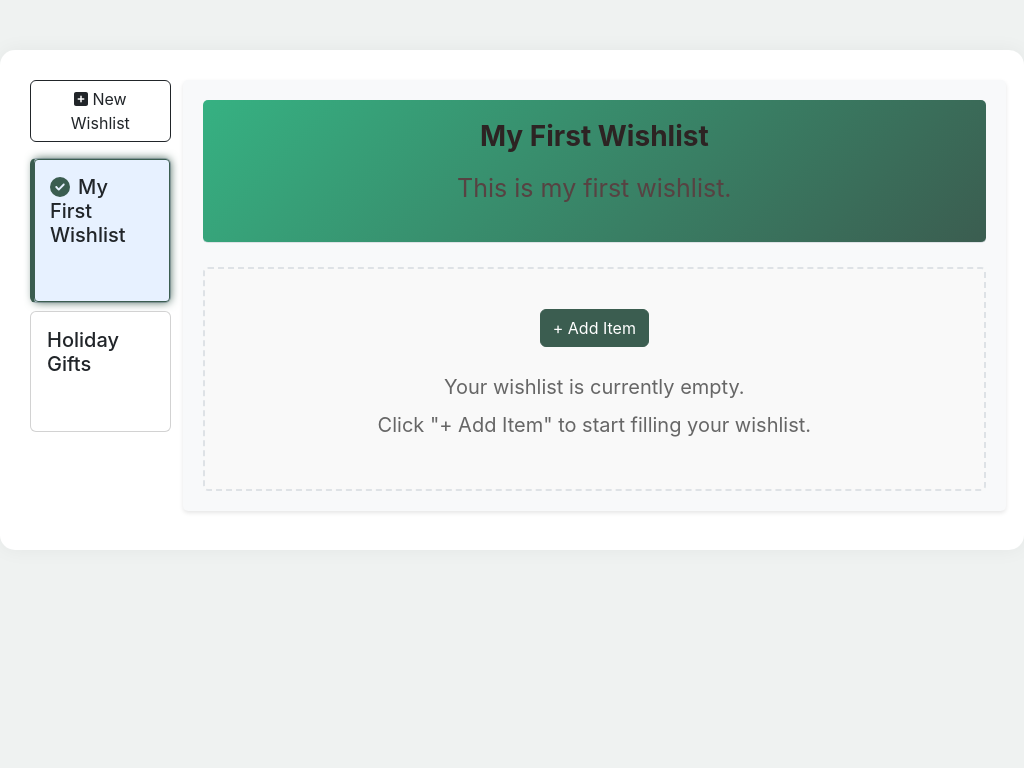
Test: WishlistPage Component Tests › creates a new wishlist
The image size is (1024, 768).
// Interact with UI to create a new wishlist
Click the button "New Wishlist" at (100, 111), box [30,80,171,142]
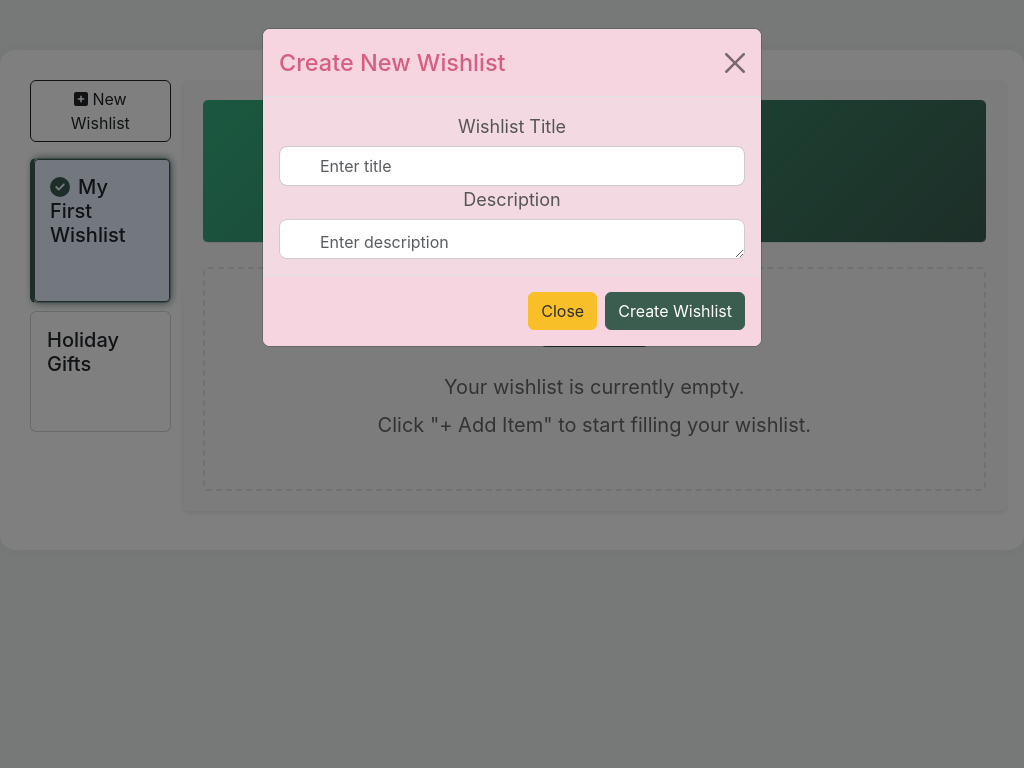
Type "Birthday Gifts" into the field with placeholder "Enter title" at (512, 166), box [279,146,745,186]
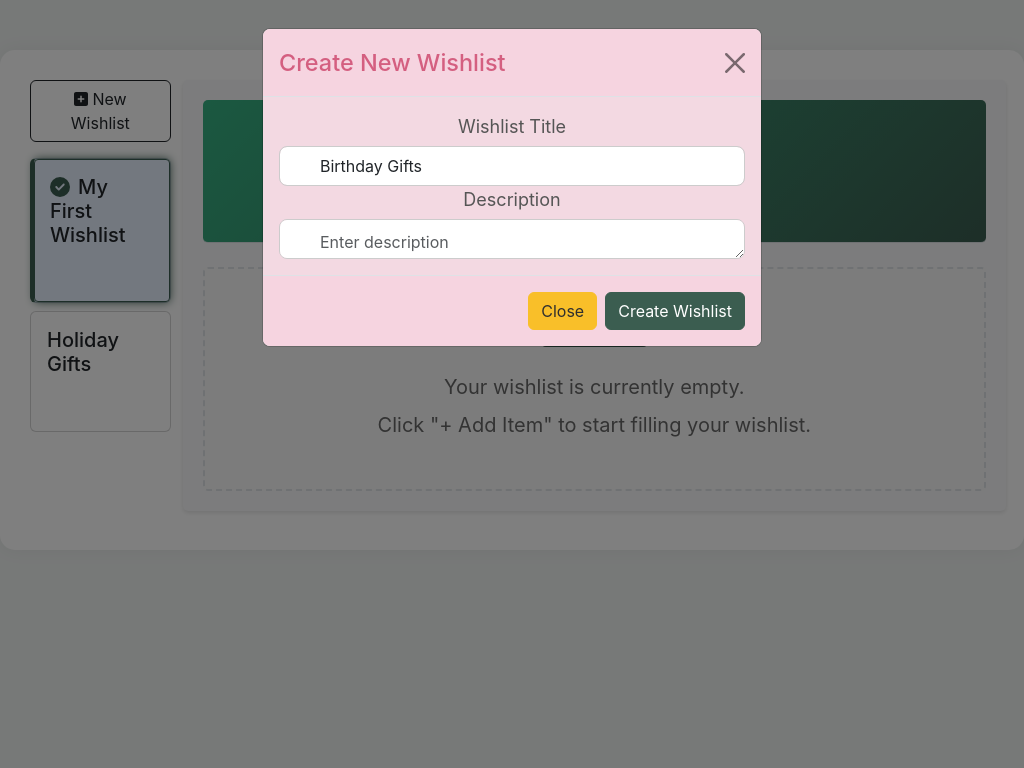
Type "Wishlist for birthday gifts." into the text box with placeholder "Enter description" at (512, 239), box [279,219,745,259]
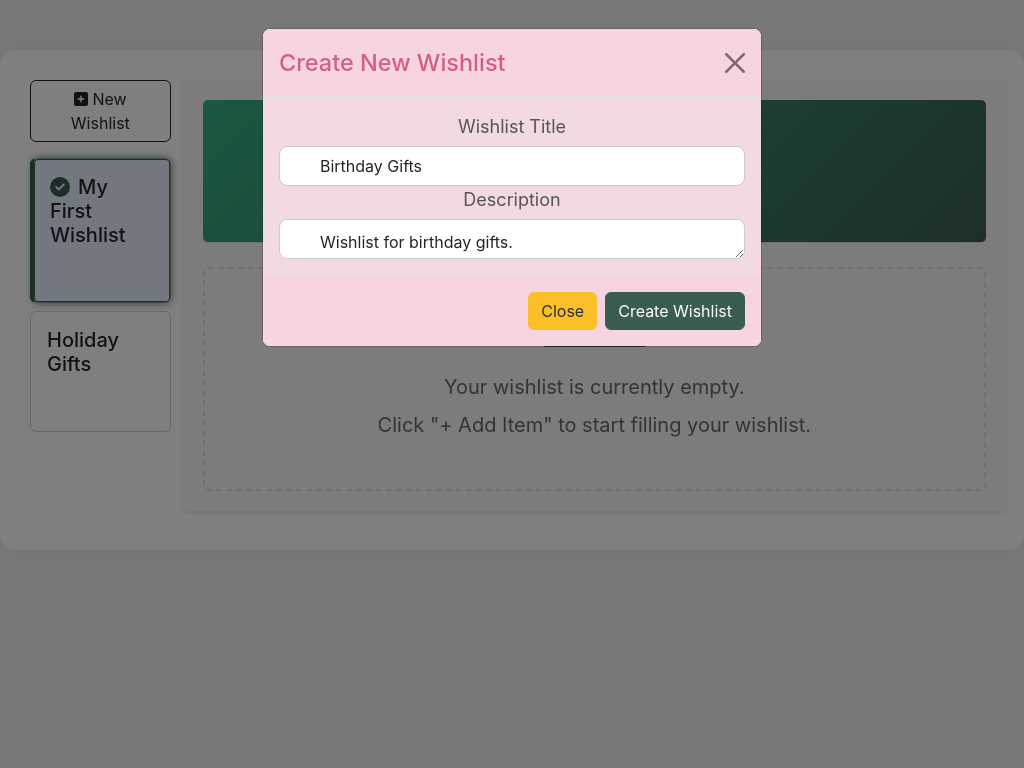
Click the button "Create Wishlist" at (675, 311), box [605,292,745,330]
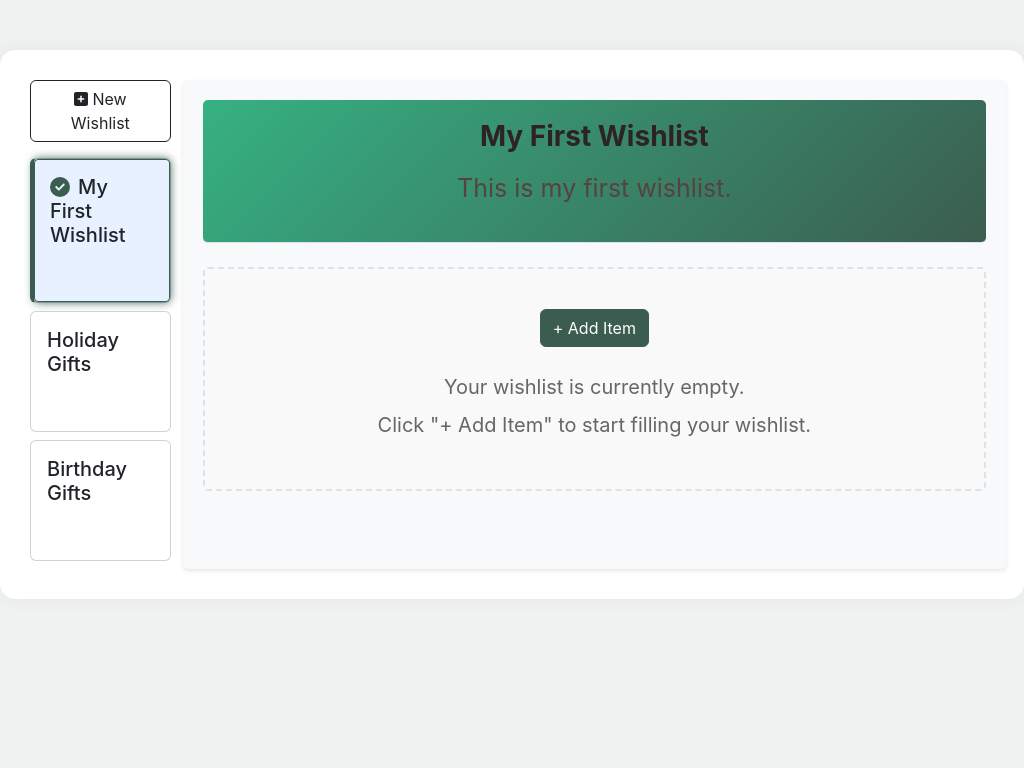
Expected: the text "Birthday Gifts" is shown, [47,457,127,505]
